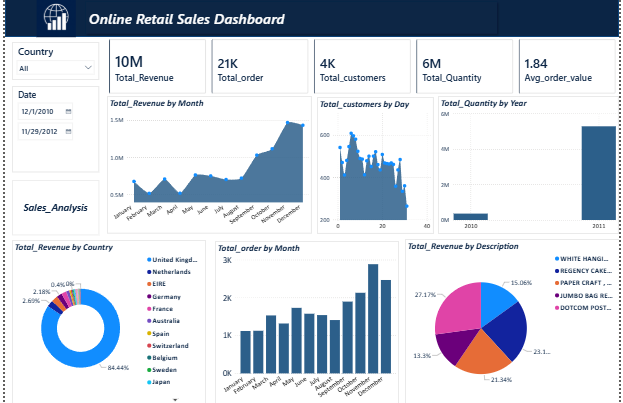

What the dashboard file says about the page in this screenshot:
{"tool":"powerbi","page":{"name":"Retail_sales_dashboard","canvas":[1536,1024],"ordinal":0},"visuals":[{"type":"shape","box":[0,0,1535,97.5],"z":0},{"type":"shape","box":[192.2,0,1046.7,98.3],"z":1000},{"type":"cardVisual","fields":{"Data":["Retail_data.Total_Revenue","Retail_data.Total_order","Retail_data.Total_customers","Retail_data.Total_Quantity","Retail_data.Avg_order_value"]},"box":[255,97.5,1280,147.5],"z":2000},{"type":"lineChart","fields":{"Category":["Custom_Calender.Date.Variation.Date Hierarchy.Month"],"Y":["Retail_data.Total_Revenue"]},"box":[256,246,512,344],"z":3000},{"type":"lineStackedColumnComboChart","fields":{"Category":["Custom_Calender.Date.Variation.Date Hierarchy.Year"],"Y":["Retail_data.Total_Quantity"]},"box":[1083.3,245,451.7,345],"z":4000},{"type":"donutChart","fields":{"Category":["Retail_data.Country"],"Y":["Retail_data.Total_Revenue"]},"box":[18,606,485,415],"z":5000},{"type":"pieChart","fields":{"Category":["Retail_data.Description"],"Y":["Retail_data.Total_Revenue"]},"box":[1000,603.3,536.7,420],"z":6000},{"type":"slicer","fields":{"Values":["Retail_data.Country"]},"box":[18.3,110,218.3,95],"z":7000},{"type":"slicer","fields":{"Values":["Custom_Calender.Date"]},"box":[18,220,218,216],"z":8000},{"type":"lineChart","fields":{"Y":["Retail_data.Total_customers"],"Category":["Custom_Calender.Date.Variation.Date Hierarchy.Day"]},"box":[780,248.3,291.7,341.7],"z":9000},{"type":"columnChart","fields":{"Y":["Retail_data.Total_order"],"Category":["Custom_Calender.Date.Variation.Date Hierarchy.Month"]},"box":[524,608,460,416],"z":10000},{"type":"pageNavigator","box":[18,454,218,138],"z":11000},{"type":"image","box":[0,0,255.6,97.8],"z":12000}]}

Visuals, with their boxes on the page's 1536x1024 design canvas (x1, y1, x2, y2). These are canvas units, not pixel positions in the 623x403 screenshot, which may show the page scaled, cropped or inside an application window:
shape: box=[0, 0, 1535, 98]
shape: box=[192, 0, 1239, 98]
cardVisual - Retail_data.Total_Revenue x Retail_data.Total_order: box=[255, 98, 1535, 245]
lineChart - Custom_Calender.Date.Variation.Date Hierarchy.Month x Retail_data.Total_Revenue: box=[256, 246, 768, 590]
lineStackedColumnComboChart - Custom_Calender.Date.Variation.Date Hierarchy.Year x Retail_data.Total_Quantity: box=[1083, 245, 1535, 590]
donutChart - Retail_data.Country x Retail_data.Total_Revenue: box=[18, 606, 503, 1021]
pieChart - Retail_data.Description x Retail_data.Total_Revenue: box=[1000, 603, 1537, 1023]
slicer - Retail_data.Country: box=[18, 110, 237, 205]
slicer - Custom_Calender.Date: box=[18, 220, 236, 436]
lineChart - Retail_data.Total_customers x Custom_Calender.Date.Variation.Date Hierarchy.Day: box=[780, 248, 1072, 590]
columnChart - Retail_data.Total_order x Custom_Calender.Date.Variation.Date Hierarchy.Month: box=[524, 608, 984, 1024]
pageNavigator: box=[18, 454, 236, 592]
image: box=[0, 0, 256, 98]
